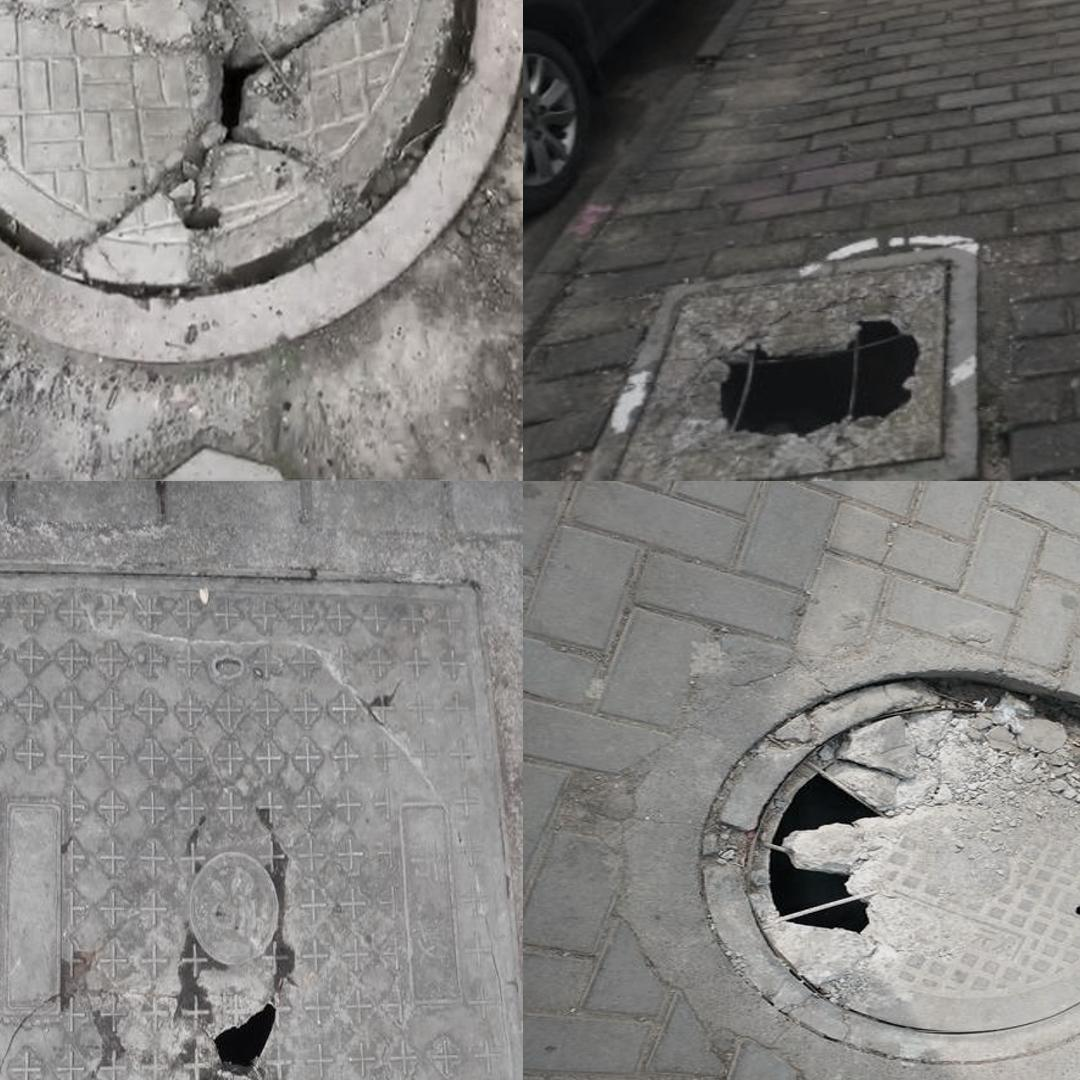broke: (0, 517, 521, 1080), (0, 0, 510, 370), (678, 640, 1080, 1080), (594, 242, 971, 478)
